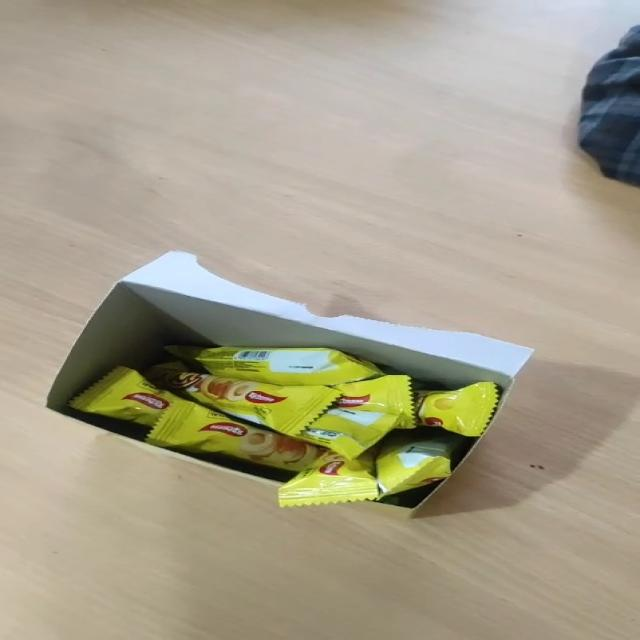Ahh: (143, 360, 344, 437), (145, 395, 321, 472), (163, 346, 387, 386), (65, 366, 188, 427), (277, 447, 380, 509), (292, 407, 404, 461), (375, 433, 459, 498), (328, 374, 418, 429), (414, 381, 501, 437)
